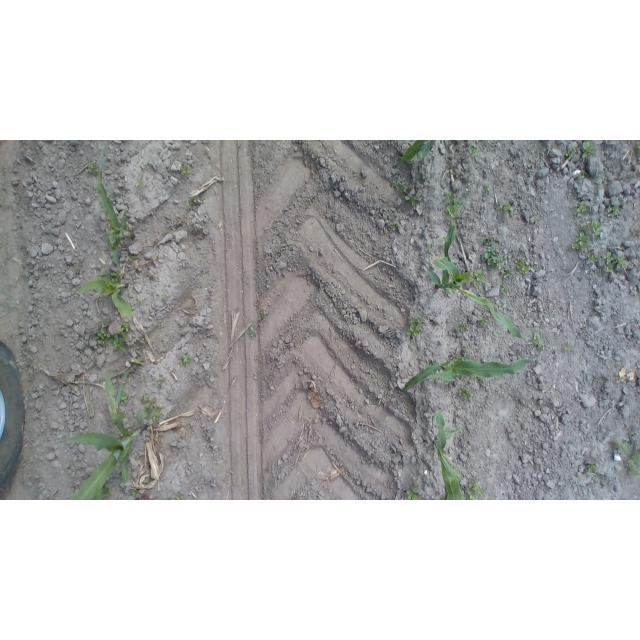Maize: (60, 361, 149, 500), (426, 221, 525, 341), (399, 339, 543, 394), (92, 142, 137, 268), (427, 408, 469, 500), (78, 267, 139, 324), (399, 141, 438, 166)
Weeds: (94, 319, 131, 351), (481, 236, 506, 268), (140, 395, 165, 423), (443, 191, 464, 219), (406, 315, 426, 341), (466, 477, 487, 499), (570, 230, 592, 251), (625, 448, 640, 477), (577, 220, 604, 234), (580, 141, 598, 162), (513, 257, 532, 276), (457, 384, 475, 404), (599, 251, 615, 273), (496, 200, 513, 220), (404, 190, 420, 210), (185, 195, 203, 211), (472, 269, 487, 287), (615, 252, 630, 270), (573, 200, 588, 217), (612, 438, 627, 455), (392, 178, 409, 193), (248, 325, 261, 344), (179, 353, 196, 367), (466, 142, 480, 159), (177, 162, 192, 177), (404, 486, 420, 500), (586, 462, 600, 477), (86, 162, 102, 175), (497, 283, 510, 298), (499, 266, 514, 279), (454, 322, 468, 335), (476, 316, 490, 329), (605, 205, 620, 217), (135, 173, 146, 189), (168, 490, 185, 500), (120, 393, 133, 406), (562, 340, 574, 353), (574, 169, 586, 182), (388, 220, 401, 232), (564, 149, 578, 160), (481, 183, 491, 198), (135, 336, 148, 347), (135, 298, 147, 309), (155, 377, 165, 388), (587, 252, 598, 262), (159, 294, 171, 303), (260, 311, 269, 322), (130, 490, 142, 497), (153, 252, 161, 262), (426, 245, 436, 253), (368, 458, 376, 467), (635, 141, 640, 153)
